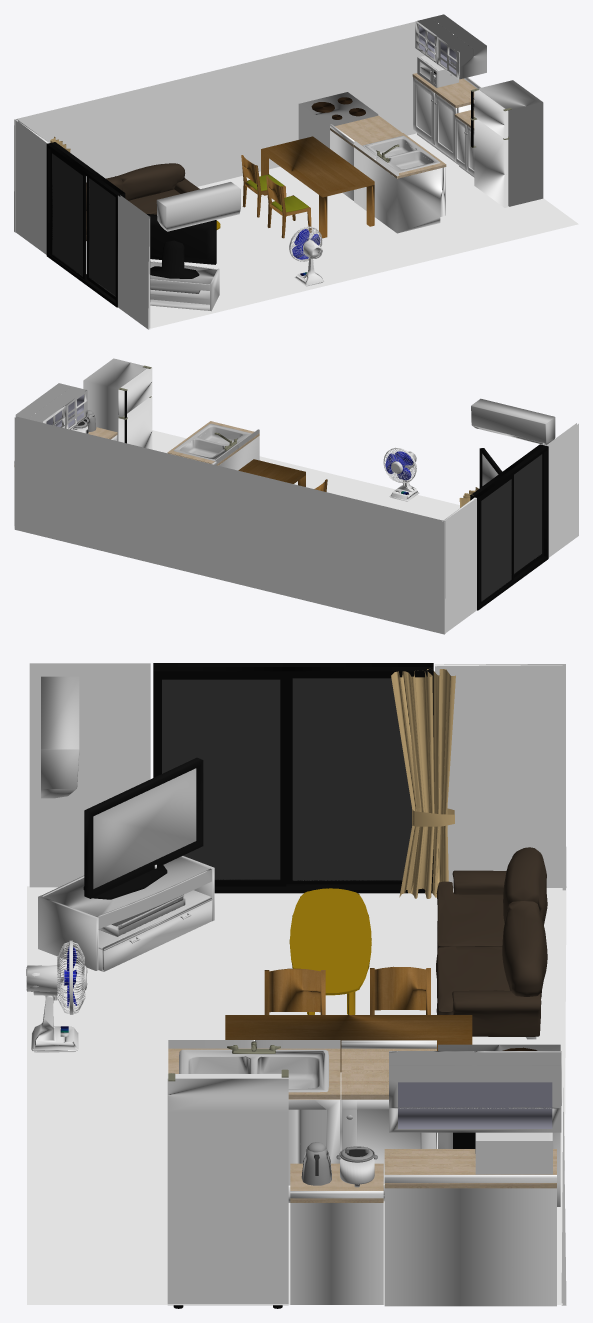
The model's file is smarthouse4.dae.
3 renders of one model, top to bottom at view 1: azimuth 30°, elevation 25°; view 2: azimuth 150°, elevation 25°; view 3: azimuth 270°, elevation 25°, orthographic. The views are drawn at different scales.
Visible parts, largest first — view 1: smarthouse4; view 2: smarthouse4; view 3: smarthouse4.
Boxes of the visible parts, left/top/right/bottom form: smarthouse4: left=14, top=14, right=578, bottom=329; smarthouse4: left=14, top=358, right=578, bottom=634; smarthouse4: left=26, top=663, right=566, bottom=1308.
Bounding box in the file's own units: 4.03 × 1.07 × 2.18.
